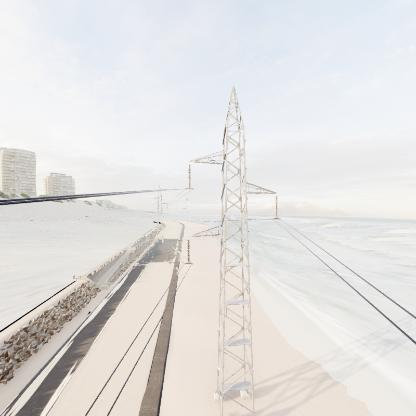tower: (185, 84, 283, 416)
